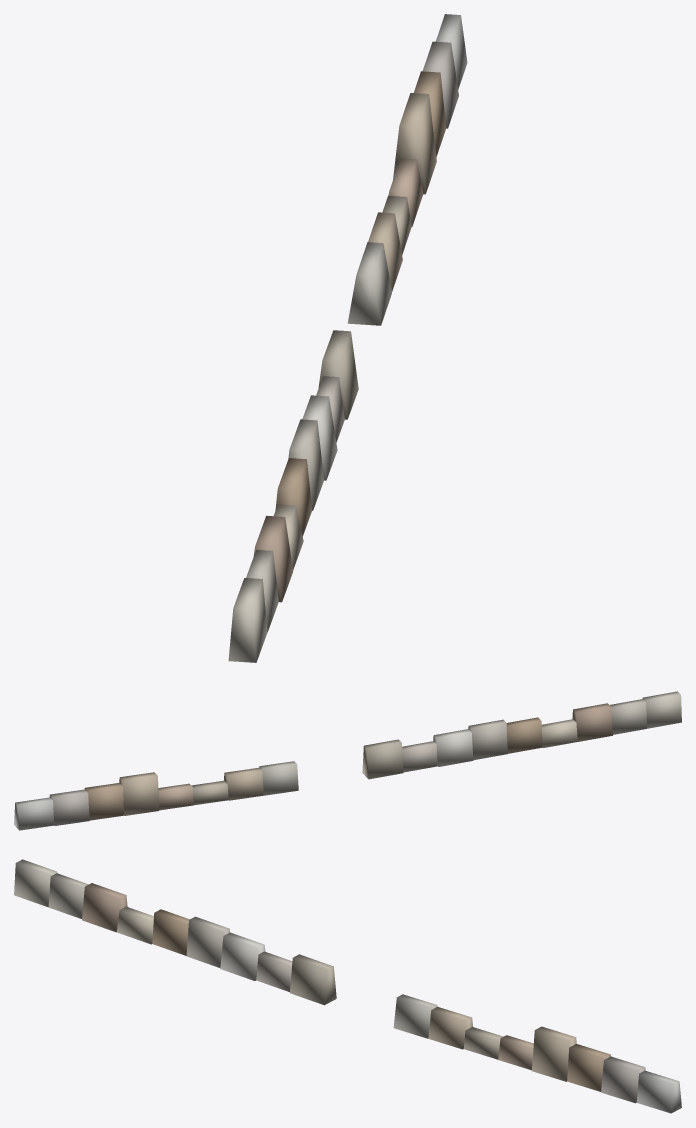
File: farm_-3_-9_collision.glb
The picture shows the model from 3 angles, top to bottom: view 1: azimuth 30°, elevation 25°; view 2: azimuth 150°, elevation 25°; view 3: azimuth 270°, elevation 25°; orthographic projection. The views are drawn at different scales.
Parts seen in each view (by area): view 1: geometry_0; view 2: geometry_0; view 3: geometry_0.
Boxes of the visible parts, x1=… form: geometry_0: x1=228, y1=14, x2=467, y2=662; geometry_0: x1=14, y1=691, x2=681, y2=830; geometry_0: x1=14, y1=859, x2=681, y2=1113.
Bounding box in the file's own units: 18.85 × 1.73 × 23.49.
